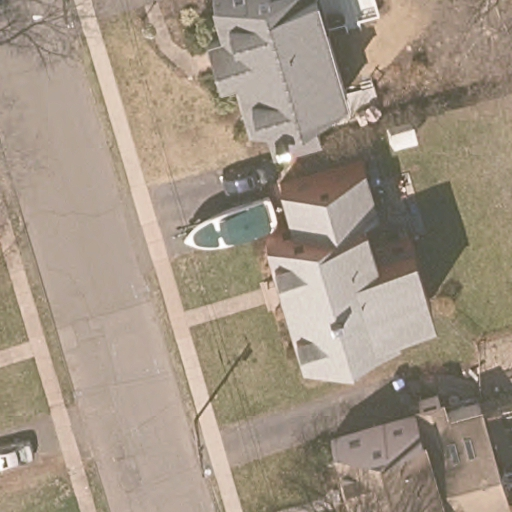DT: (192, 420, 213, 479)
